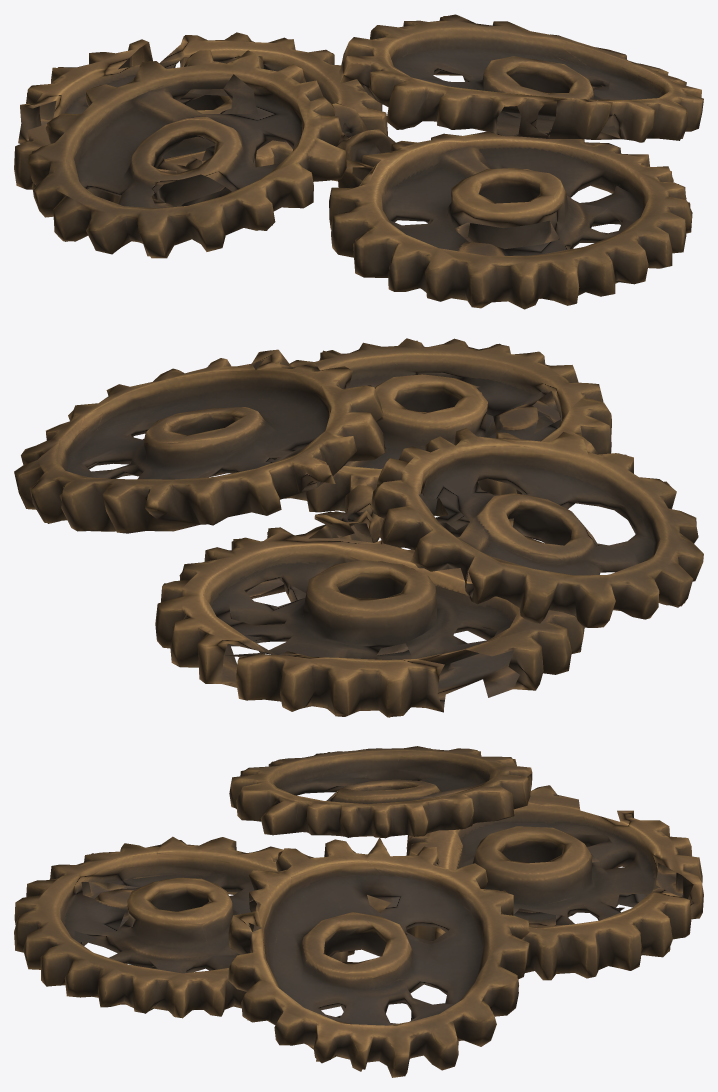
Rendered from special_GearSet.glb.
The picture shows the model from 3 angles, top to bottom: view 1: azimuth 30°, elevation 25°; view 2: azimuth 150°, elevation 25°; view 3: azimuth 270°, elevation 25°; orthographic projection. The views are drawn at different scales.
Visible parts, largest first — view 1: world; view 2: world; view 3: world.
Boxes of the visible parts, box(x1,y1,x2,y2) form: world: box(14, 14, 703, 309); world: box(14, 338, 703, 717); world: box(14, 746, 703, 1077).
Bounding box in the file's own units: 0.9945 × 0.1856 × 0.9993.
1 material, 1 textured.
